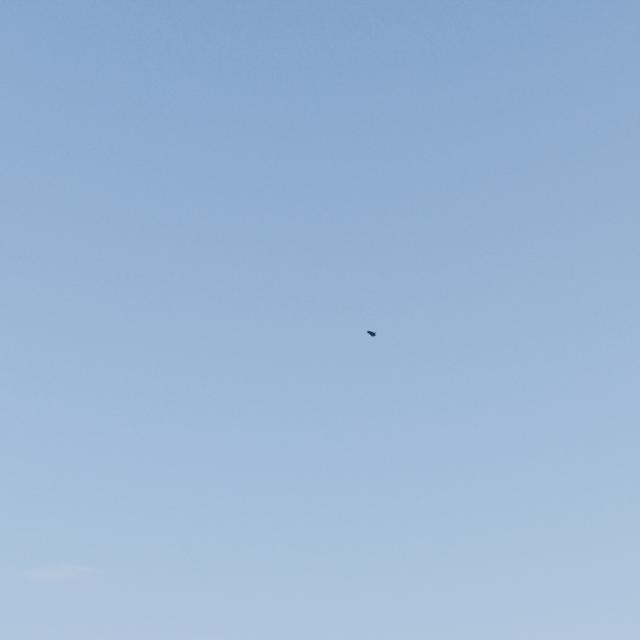Airaplan: (366, 331, 376, 337)
